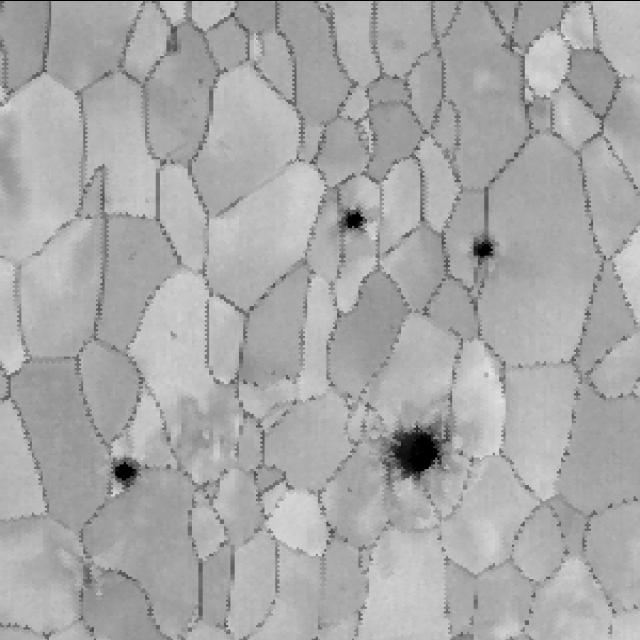good_void: (372, 418, 461, 492), (329, 199, 377, 245), (462, 225, 503, 271), (115, 450, 157, 489), (161, 23, 183, 58), (194, 75, 208, 97), (165, 326, 178, 345), (481, 370, 494, 378)
